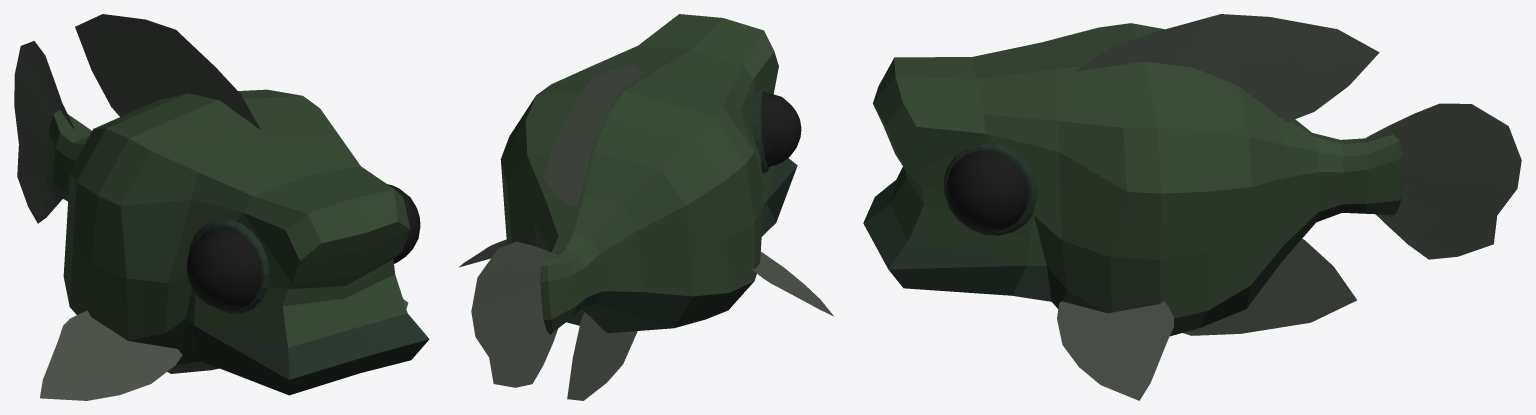
Rendered from Humphead.glb.
The picture shows the model from 3 angles, left to right: view 1: azimuth 30°, elevation 25°; view 2: azimuth 150°, elevation 25°; view 3: azimuth 270°, elevation 25°; orthographic projection. The views are drawn at different scales.
Visible parts, largest first — view 1: Humphead_Icosphere.040; view 2: Humphead_Icosphere.040; view 3: Humphead_Icosphere.040.
Boxes of the visible parts, x1,y1,x2,y2 form: Humphead_Icosphere.040: [14, 14, 429, 400]; Humphead_Icosphere.040: [459, 14, 833, 400]; Humphead_Icosphere.040: [863, 14, 1521, 400].
Bounding box in the file's own units: 4.12 × 3.28 × 5.89.
